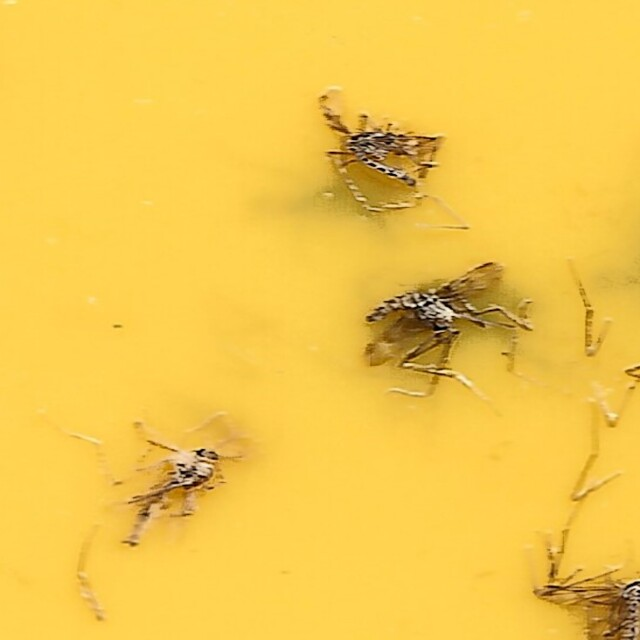Nematocera: (359, 262, 523, 388), (307, 89, 462, 217), (117, 433, 234, 551)
